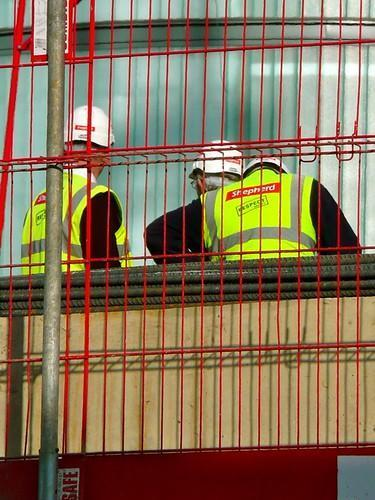vest: (199, 164, 319, 264), (21, 171, 135, 274)
